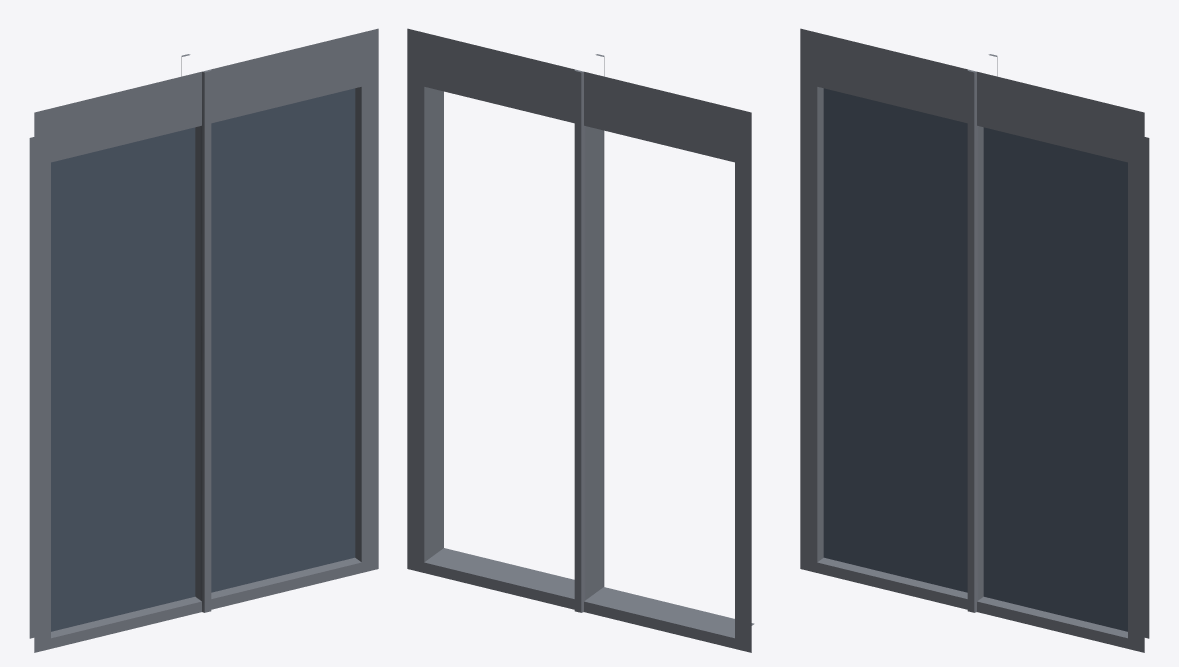
Rendered from env_block_metal_full_window.glb.
3 views of the same model, side by side, from view 1: azimuth 30°, elevation 25°; view 2: azimuth 150°, elevation 25°; view 3: azimuth 330°, elevation 25° (orthographic).
Visible parts, largest first — view 1: part_1, part_0; view 2: part_0; view 3: part_1, part_0.
Part boxes in pixels (x1,y1,x2,y2): part_1: [51, 88, 355, 631]; part_0: [29, 28, 378, 652]; part_0: [407, 28, 754, 652]; part_1: [823, 88, 1127, 631]; part_0: [800, 28, 1149, 652].
Size of the model in its own units: 2 by 3 by 0.2311.
